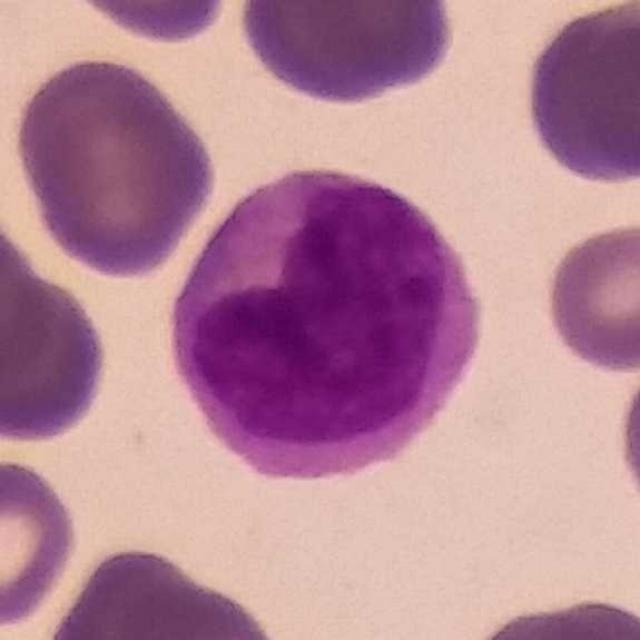Monocyte: (170, 159, 492, 481)
RBC: (9, 51, 220, 282), (230, 0, 462, 111), (517, 2, 640, 190), (0, 265, 115, 450), (39, 540, 241, 639), (538, 217, 640, 376), (95, 565, 297, 640), (0, 449, 82, 633), (0, 204, 55, 390), (583, 0, 640, 174), (54, 0, 240, 48), (458, 591, 640, 640), (609, 343, 640, 539)
